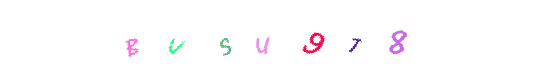8: (315, 0, 395, 80)
9: (274, 0, 354, 80)
B: (134, 0, 214, 80)
S: (233, 0, 313, 80)
T: (274, 0, 354, 80)
U: (237, 0, 317, 80)
V: (174, 0, 254, 80)
